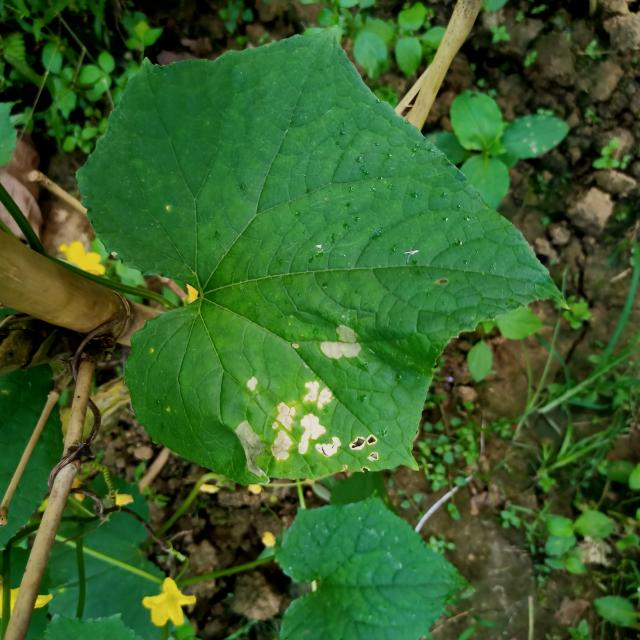disease_cucumber: (235, 374, 380, 479), (318, 322, 362, 364)
